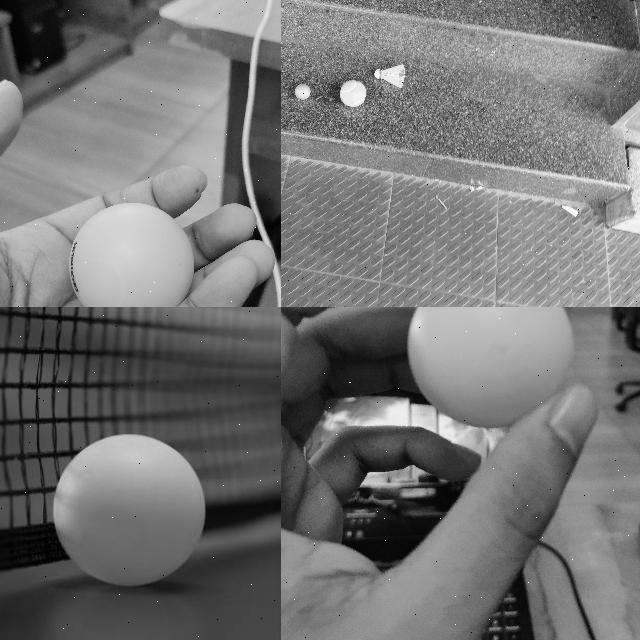ping-pong-ball: (54, 434, 206, 588), (405, 307, 574, 429), (68, 203, 193, 306), (295, 85, 309, 99)
